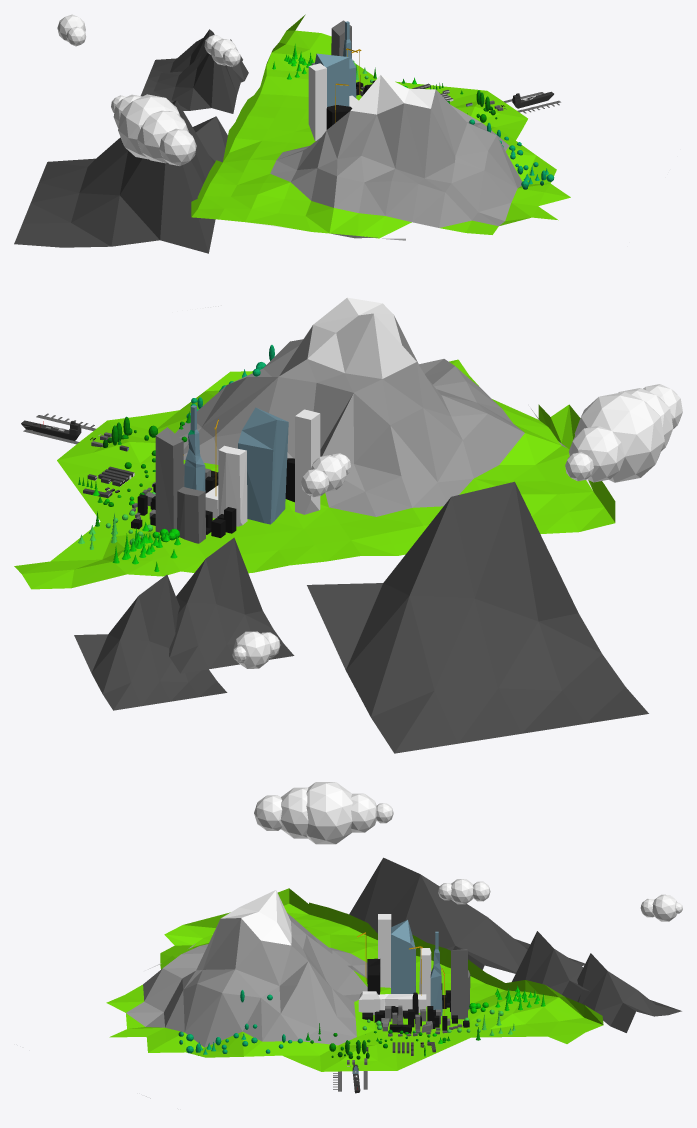
3 renders of one model, top to bottom at view 1: azimuth 30°, elevation 25°; view 2: azimuth 150°, elevation 25°; view 3: azimuth 270°, elevation 25°, orthographic. The views are drawn at different scales.
Parts seen in each view (by area): view 1: sol et iles, Nuage, buildings, sapins.1, port.1, black_building; view 2: sol et iles, buildings, Nuage, sapins.1, black_building, port.1, entrepot; view 3: sol et iles, Nuage, buildings, sapins.1, black_building, Cube.1.
Part boxes in pixels (bbox=[...]): sol et iles: bbox=[14, 14, 570, 253]; Nuage: bbox=[57, 14, 240, 165]; buildings: bbox=[308, 20, 358, 140]; sapins.1: bbox=[272, 44, 554, 189]; port.1: bbox=[484, 91, 560, 113]; black_building: bbox=[326, 80, 375, 129]; sol et iles: bbox=[14, 297, 648, 753]; buildings: bbox=[155, 405, 320, 543]; Nuage: bbox=[232, 384, 682, 668]; sapins.1: bbox=[78, 345, 274, 571]; black_building: bbox=[131, 458, 294, 537]; port.1: bbox=[21, 413, 111, 447]; entrepot: bbox=[83, 445, 134, 497]; sol et iles: bbox=[106, 857, 681, 1098]; Nuage: bbox=[254, 782, 682, 921]; buildings: bbox=[358, 914, 470, 1019]; sapins.1: bbox=[178, 985, 545, 1059]; black_building: bbox=[362, 958, 469, 1033]; Cube.1: bbox=[381, 1005, 450, 1032].
Size of the model in its own units: 1414 by 424 by 1543.
1 material, 1 textured.
